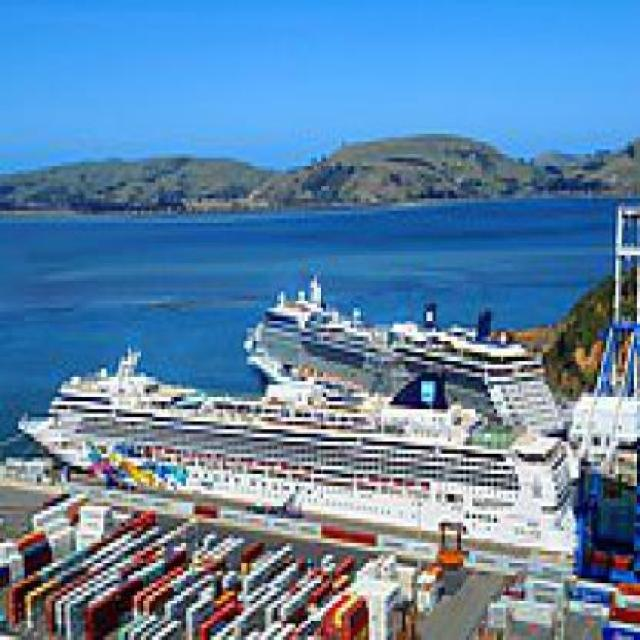cruise: (7, 341, 581, 544), (236, 264, 574, 443)
